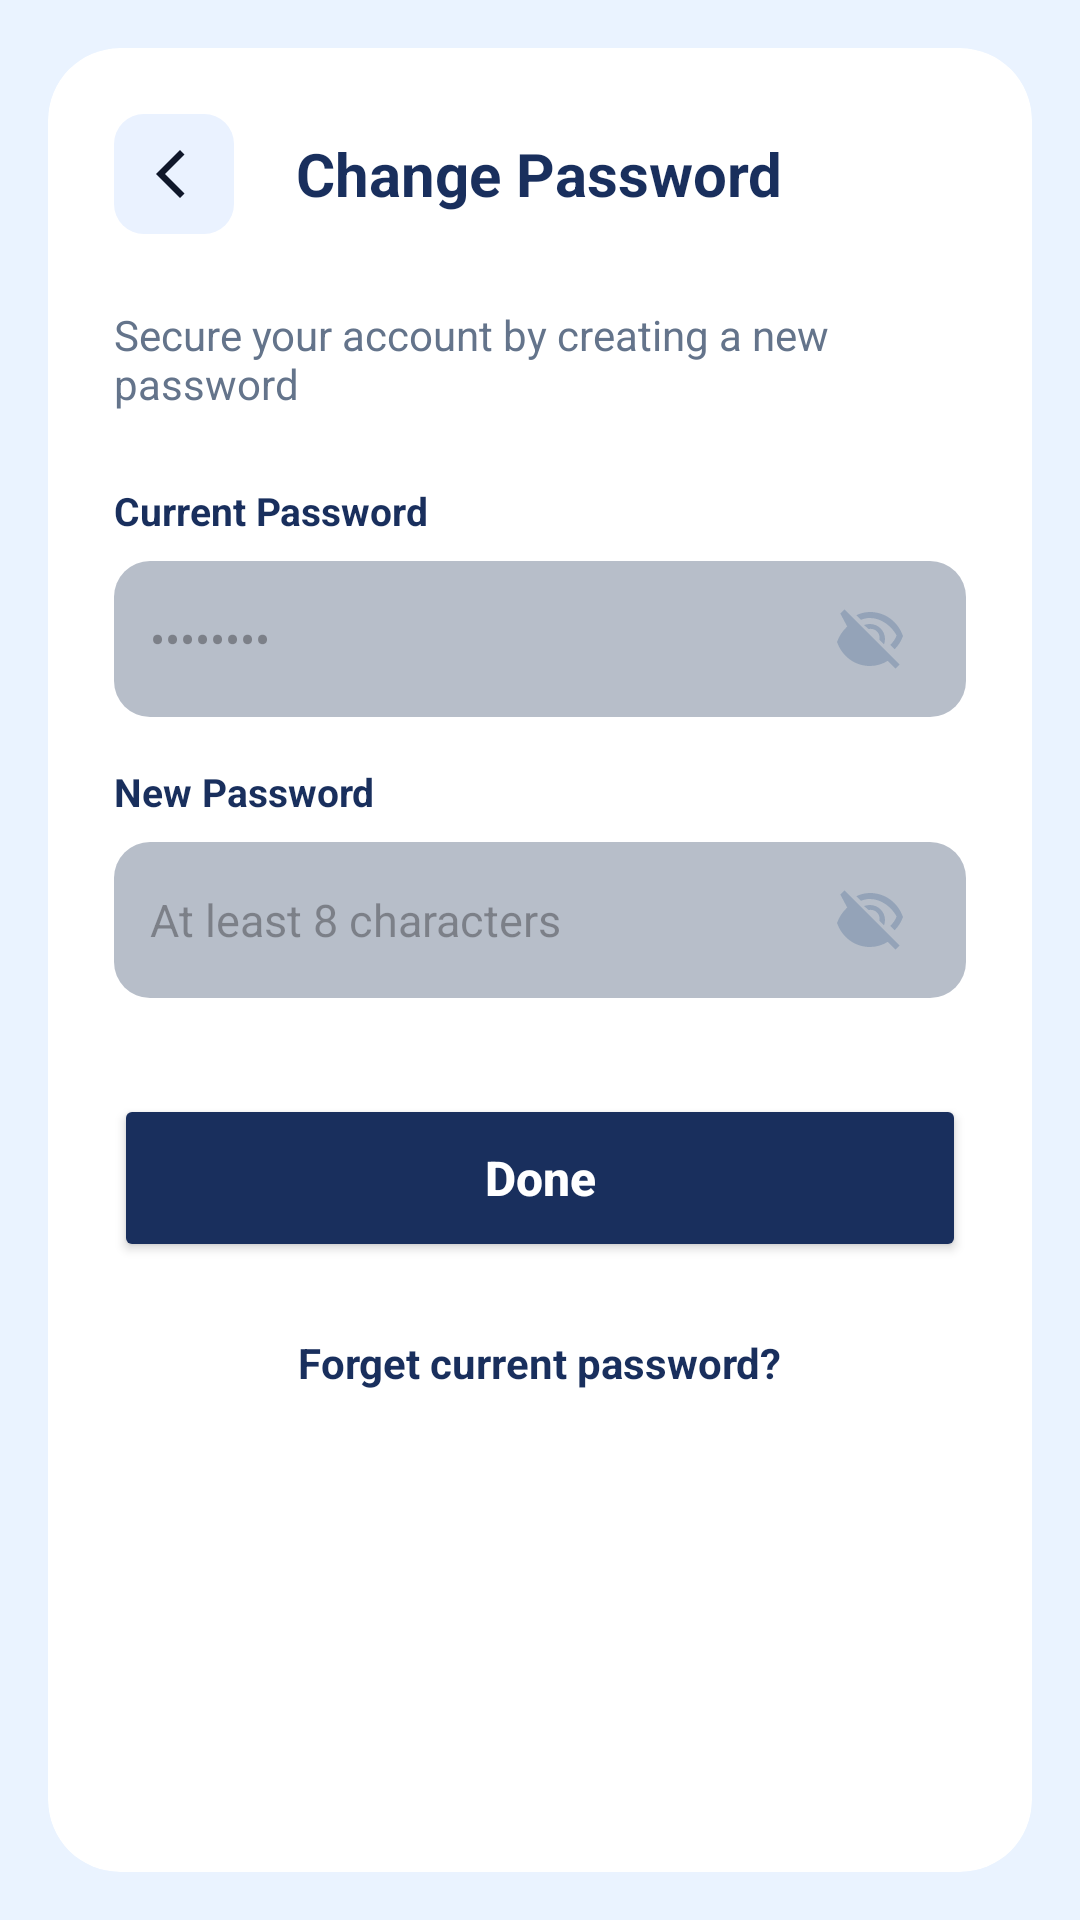

Screen size 1080w x 1920h. Icon name, then its center in pixels as (x=x, y=y):
back: (x=174, y=174)
eye off: (x=870, y=639), (x=870, y=920)
